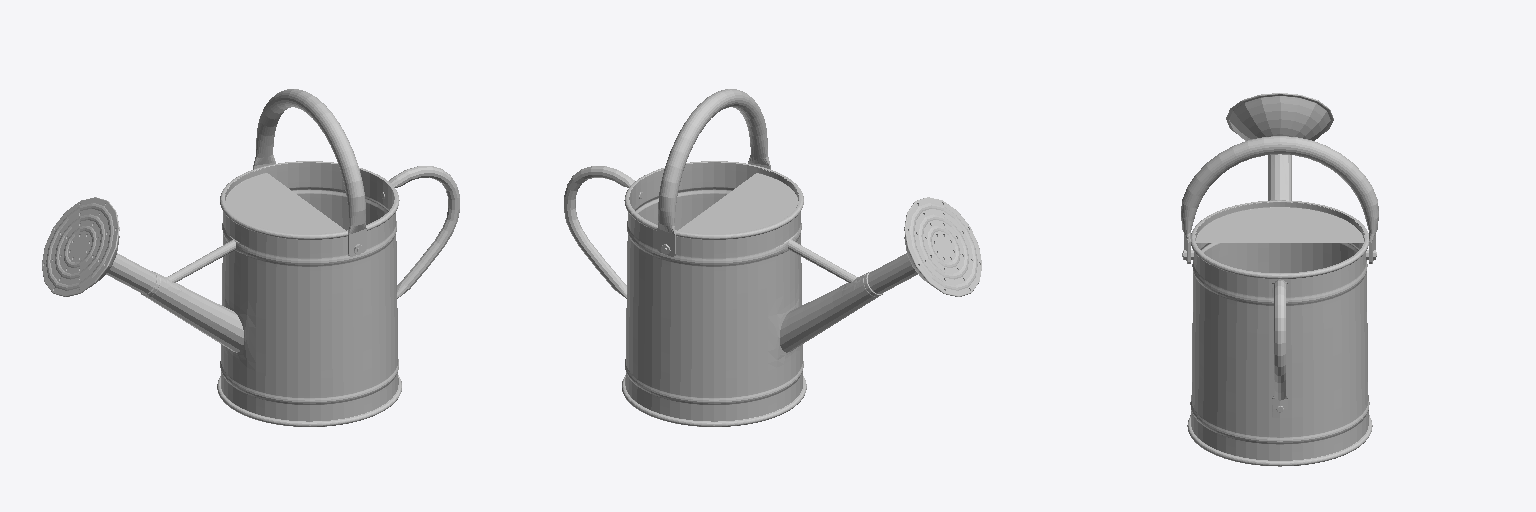
File: watering-can-002.obj
3 renders of one model, left to right at view 1: azimuth 30°, elevation 25°; view 2: azimuth 150°, elevation 25°; view 3: azimuth 270°, elevation 25°, orthographic.
Visible parts, largest first — view 1: body, handle; view 2: body, handle; view 3: body, handle.
Part boxes in pixels (x1,y1,x2,y2): body: (42, 161, 401, 426); handle: (253, 89, 459, 298); body: (622, 161, 981, 426); handle: (564, 89, 770, 298); body: (1182, 93, 1376, 466); handle: (1181, 136, 1378, 417).
Size of the model in its own units: 0.3856 by 0.2644 by 0.1625.